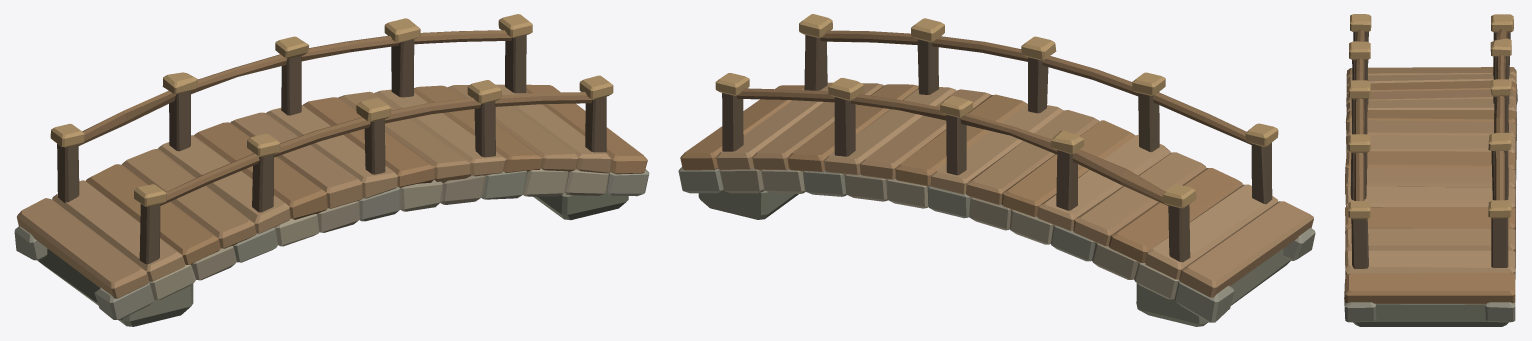
The model's file is footbridge.glb.
3 views of the same model, side by side, from view 1: azimuth 30°, elevation 25°; view 2: azimuth 150°, elevation 25°; view 3: azimuth 270°, elevation 25° (orthographic). The views are drawn at different scales.
Visible parts, largest first — view 1: footbridge; view 2: footbridge; view 3: footbridge.
Boxes of the visible parts, x1,y1,x2,y2 form: footbridge: (14,14,649,326); footbridge: (678,14,1315,326); footbridge: (1344,14,1517,326).
Bounding box in the file's own units: 3.47 × 1 × 1.12.
